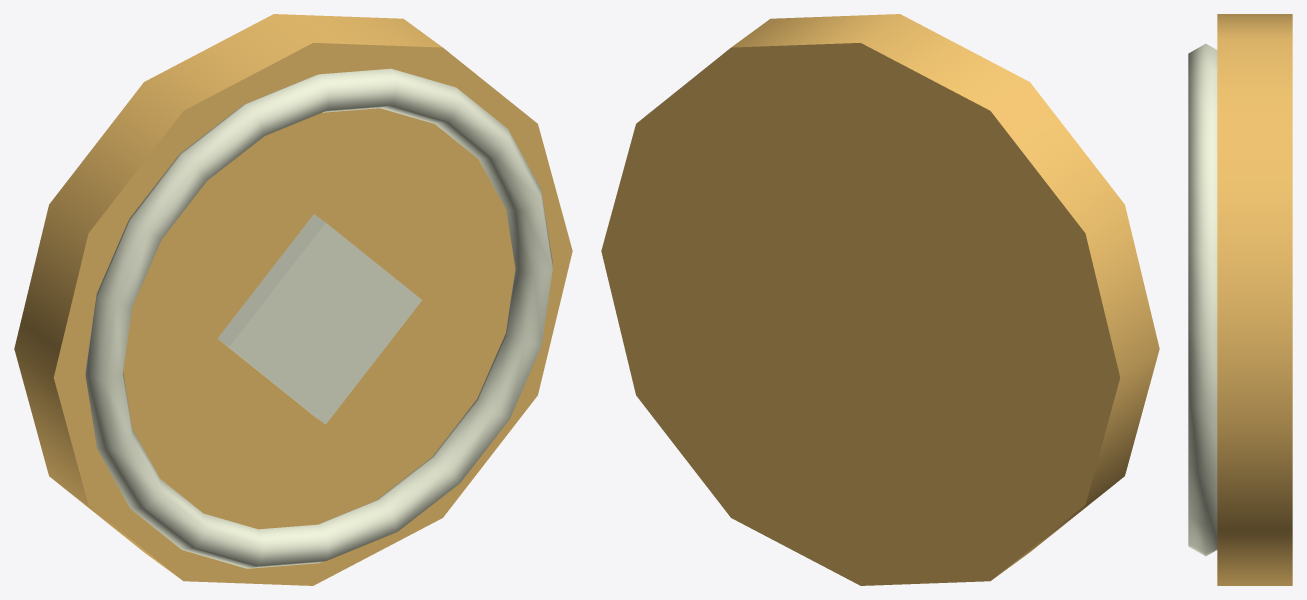
Rendered from coin.glb.
The picture shows the model from 3 angles, left to right: view 1: azimuth 30°, elevation 25°; view 2: azimuth 150°, elevation 25°; view 3: azimuth 270°, elevation 25°; orthographic projection. The views are drawn at different scales.
Parts seen in each view (by area): view 1: coin, rim, emblem; view 2: coin; view 3: coin, rim.
Part boxes in pixels (x1,y1,x2,y2): coin: [14, 14, 572, 585]; rim: [85, 68, 552, 568]; emblem: [217, 214, 421, 424]; coin: [601, 14, 1159, 585]; coin: [1217, 14, 1292, 585]; rim: [1188, 43, 1217, 556].
Size of the model in its own units: 0.76 by 0.76 by 0.1384.
